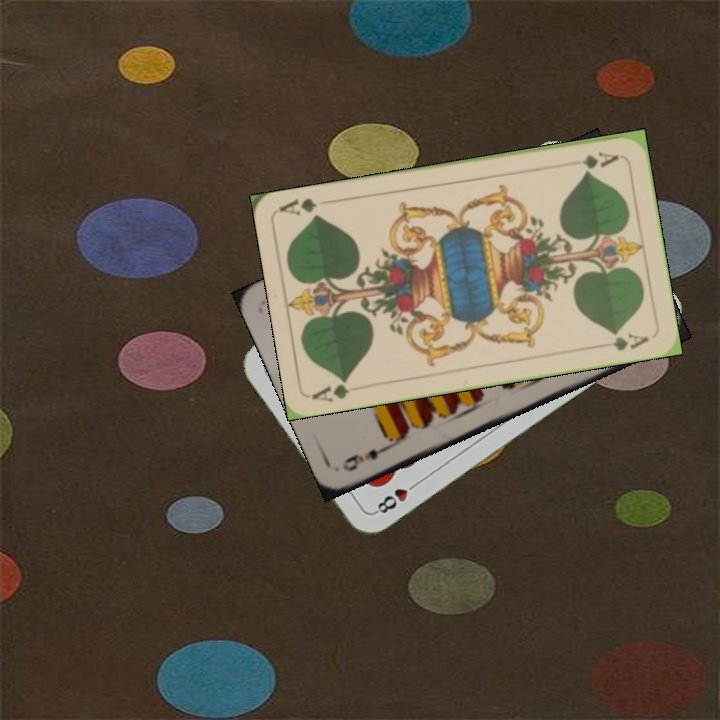E9: (338, 441, 394, 474)
GA: (564, 147, 622, 172), (309, 374, 352, 405)
H8: (370, 477, 422, 517)
